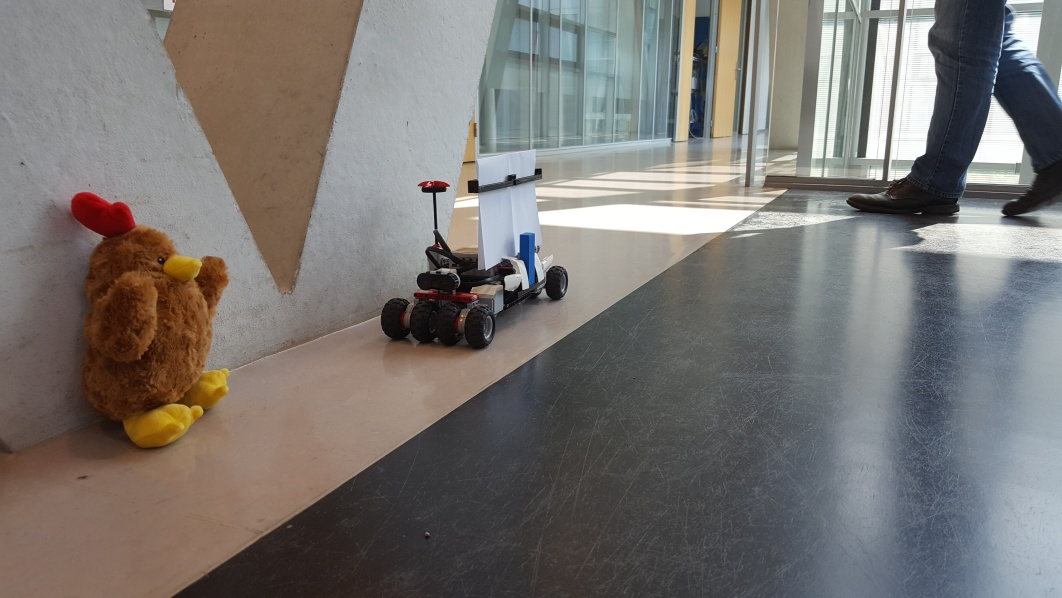beam: (515, 226, 537, 297)
chicken: (65, 185, 235, 448)
